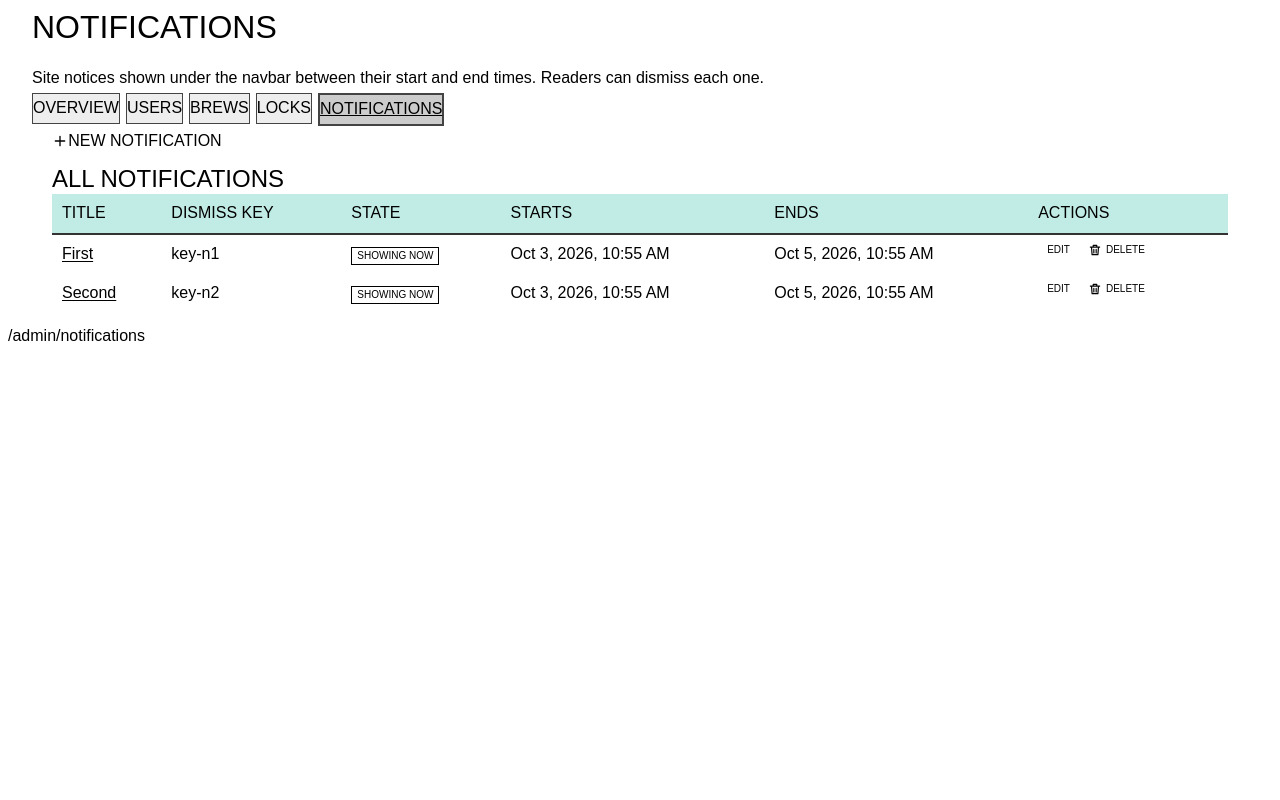
notifications › deletes from the list and from the form, each after a confirmation
Click the button with aria-label "Delete First". click: point(1116, 250)
box: [1079,240,1154,260]
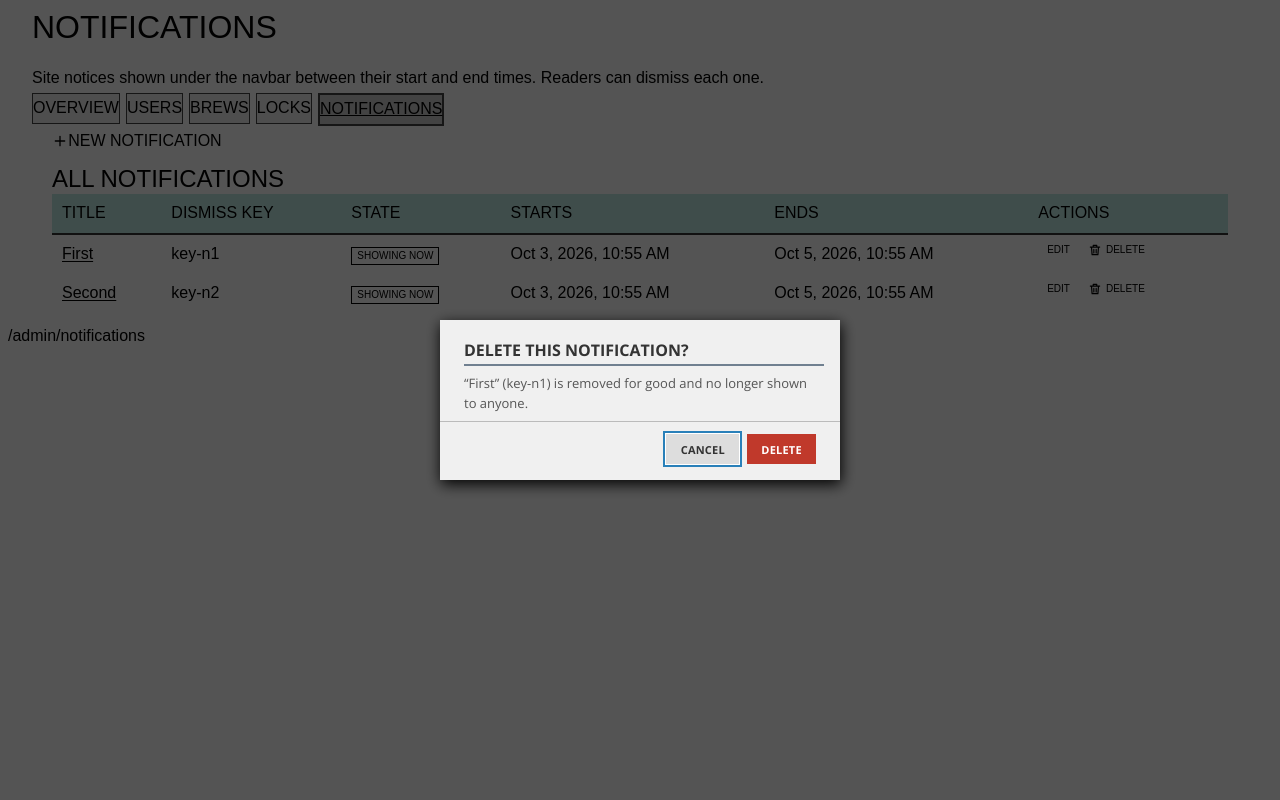
Expected: the dialog "Delete this notification?" shows "“First” (key-n1)", [464,374,807,412]
Click the button "Delete". click: point(782, 449)
box: [747,434,816,464]
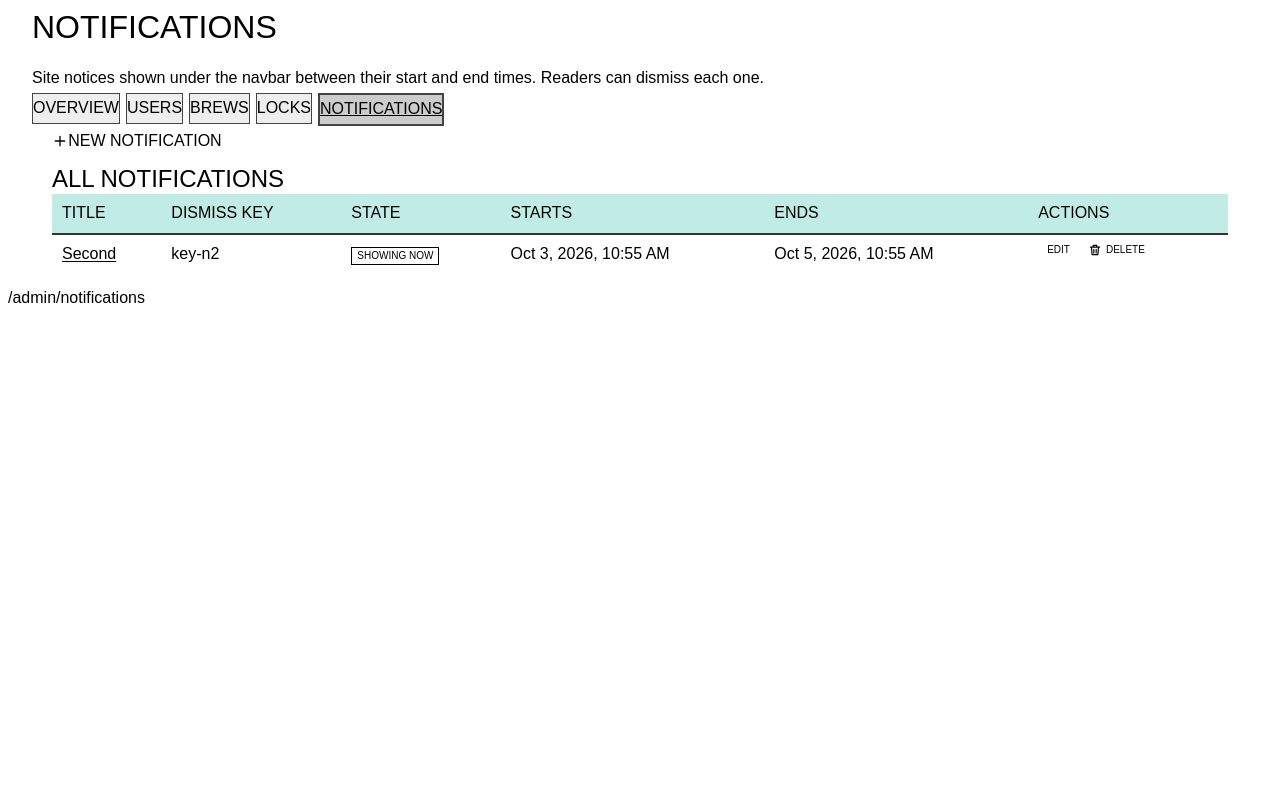
Expected: the number of rows with test id "admin-notification-row" is 1, [52,235,1228,274]
Click the link with aria-label "Edit Second". click: point(1059, 249)
box: [1047,244,1070,255]
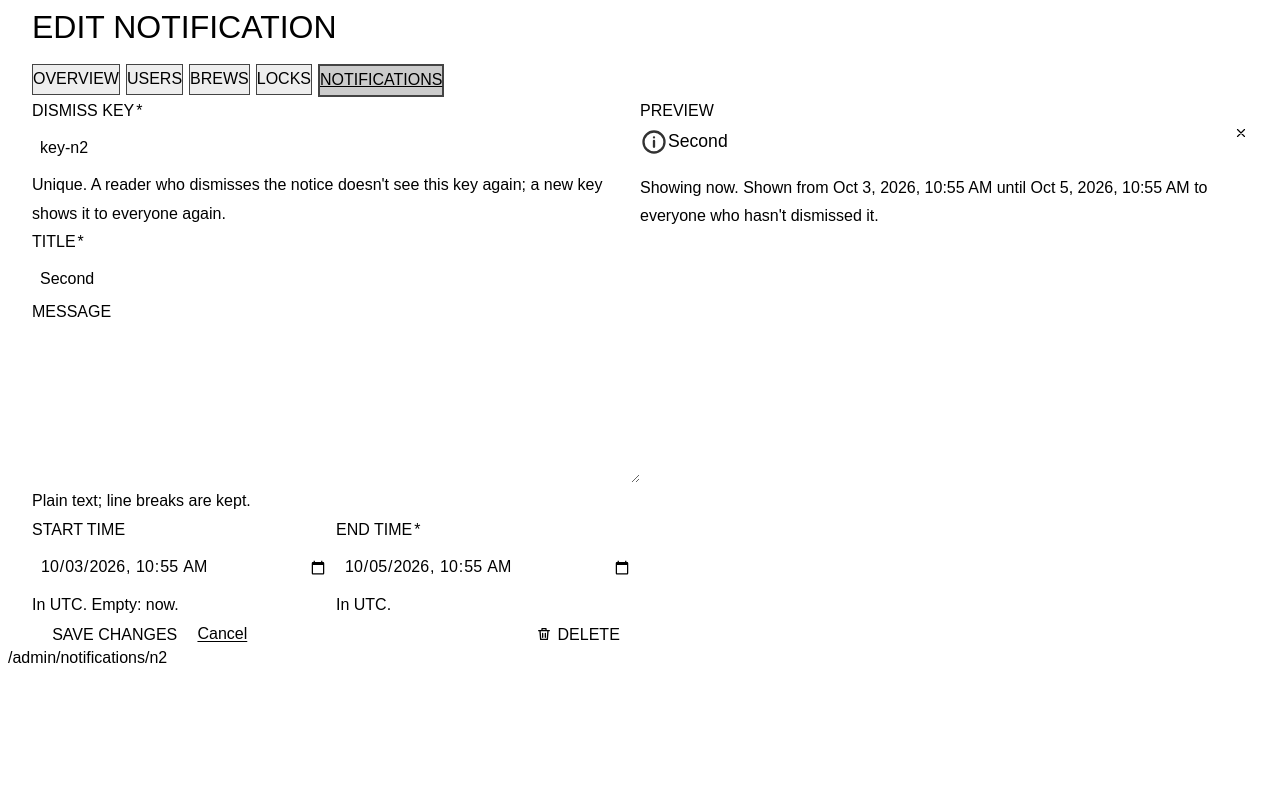
Click the button with test id "admin-notification-delete". click: point(578, 634)
box: [515,624,640,645]
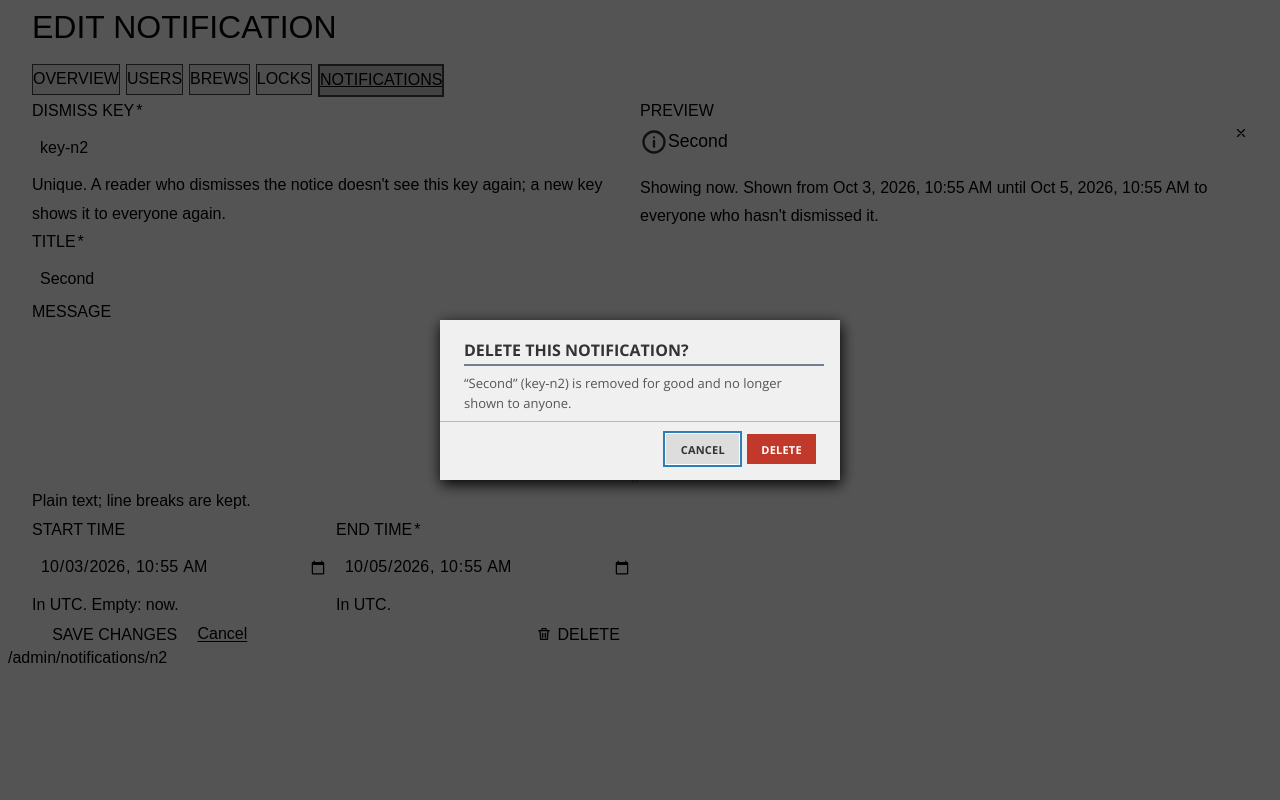
Click the button "Delete". click: point(782, 449)
box: [747,434,816,464]
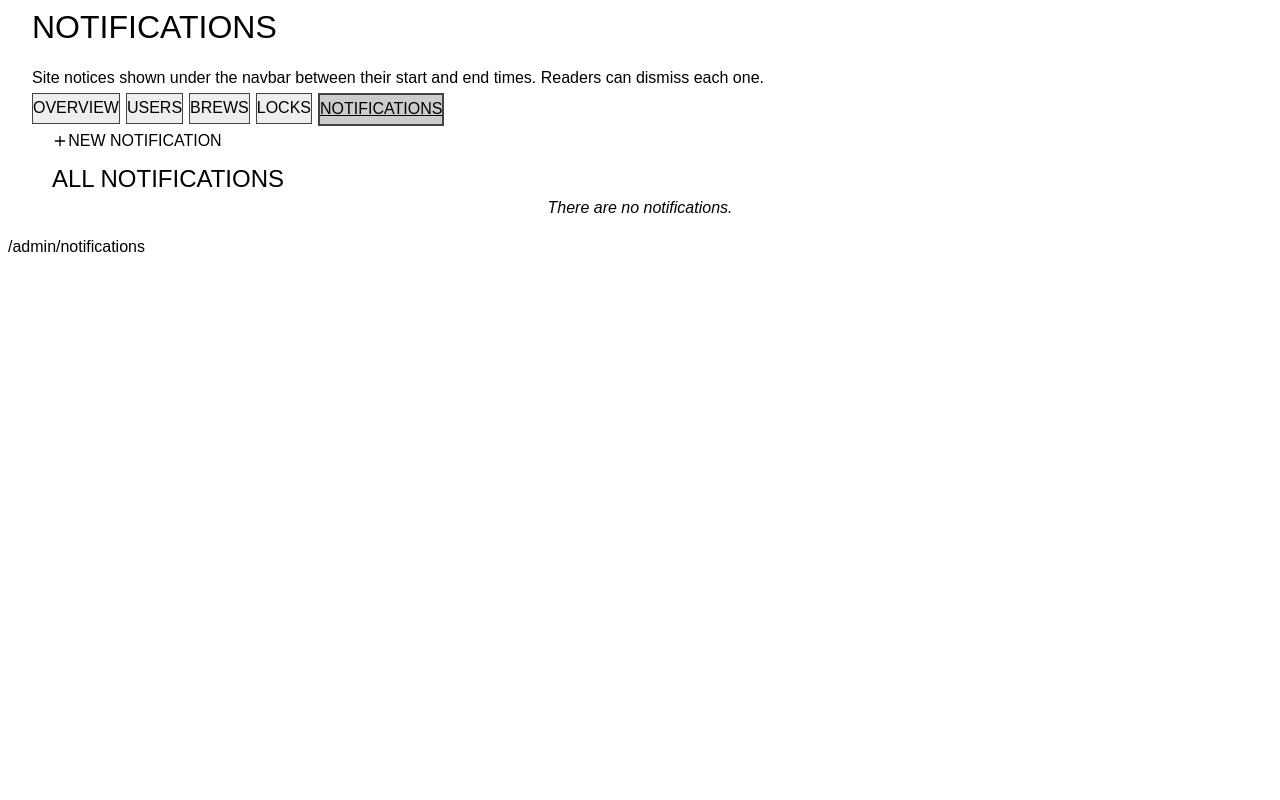
Expected: the text with test id "location" reads "/admin/notifications", [8,238,145,255]
Expected: the text "There are no notifications." is shown, [548,199,732,216]
